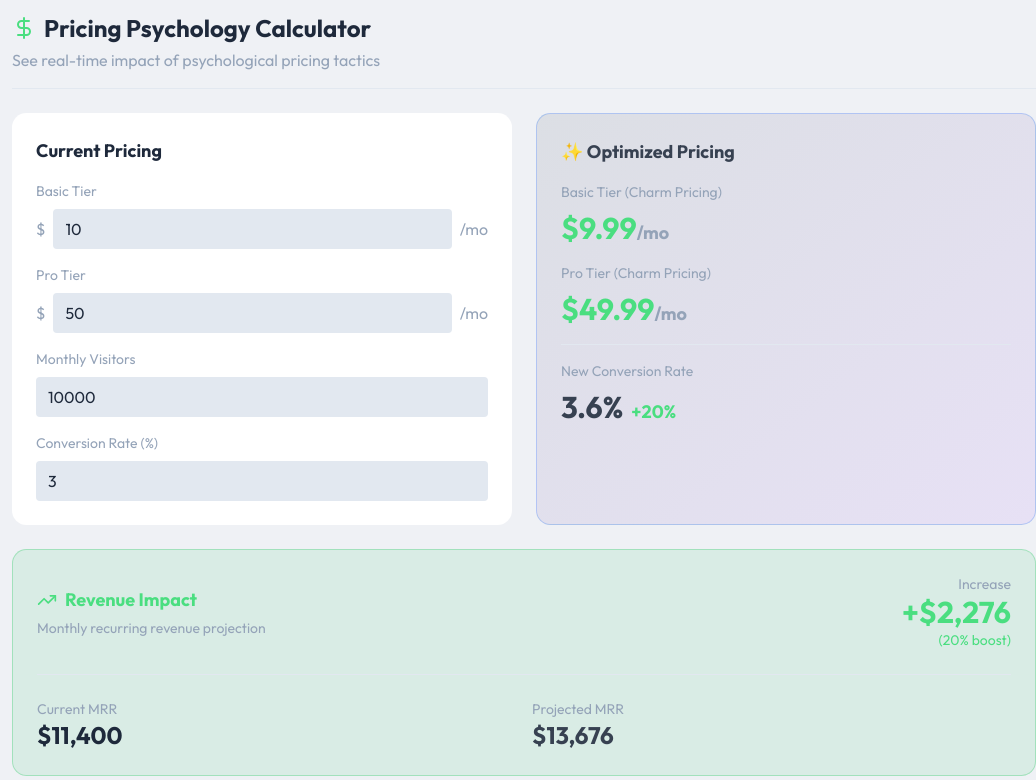
Test: PricingCalculator › recalculates when conversion rate changes
Replace the text in the number field below "Conversion Rate (%)" with "5": (262,481) top-left (36, 461), bottom-right (488, 501)
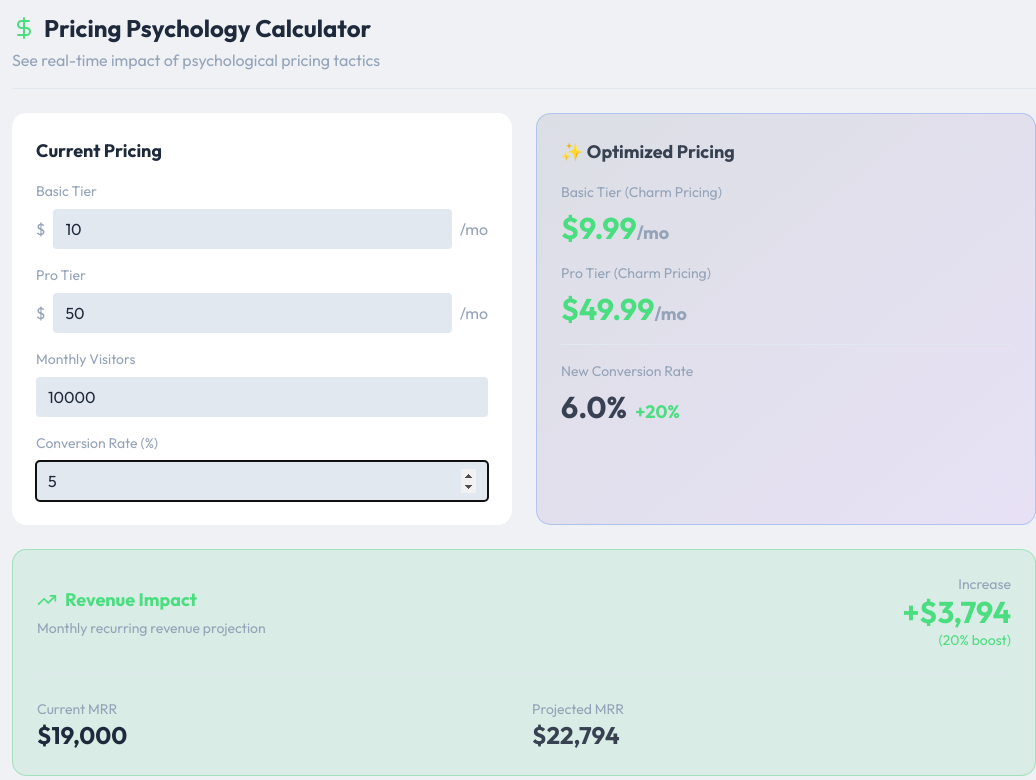
expect the text "6.0%" is shown: met, box top-left (561, 388), bottom-right (680, 426)
